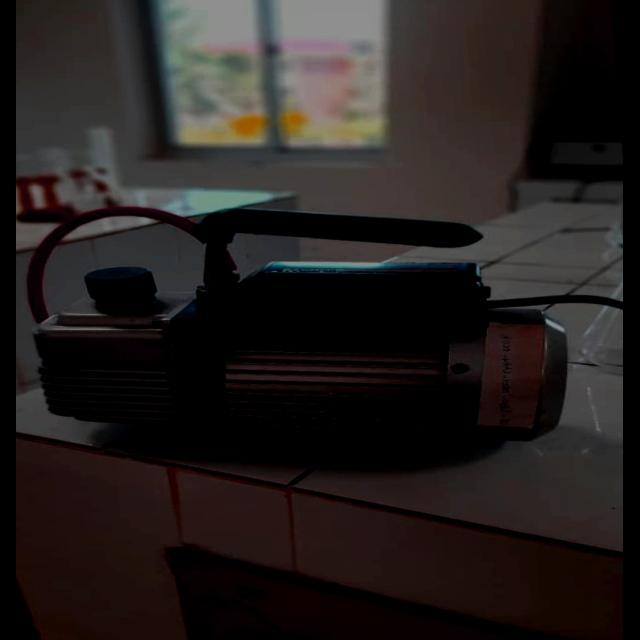Vacuum Pump: (16, 195, 596, 482)
